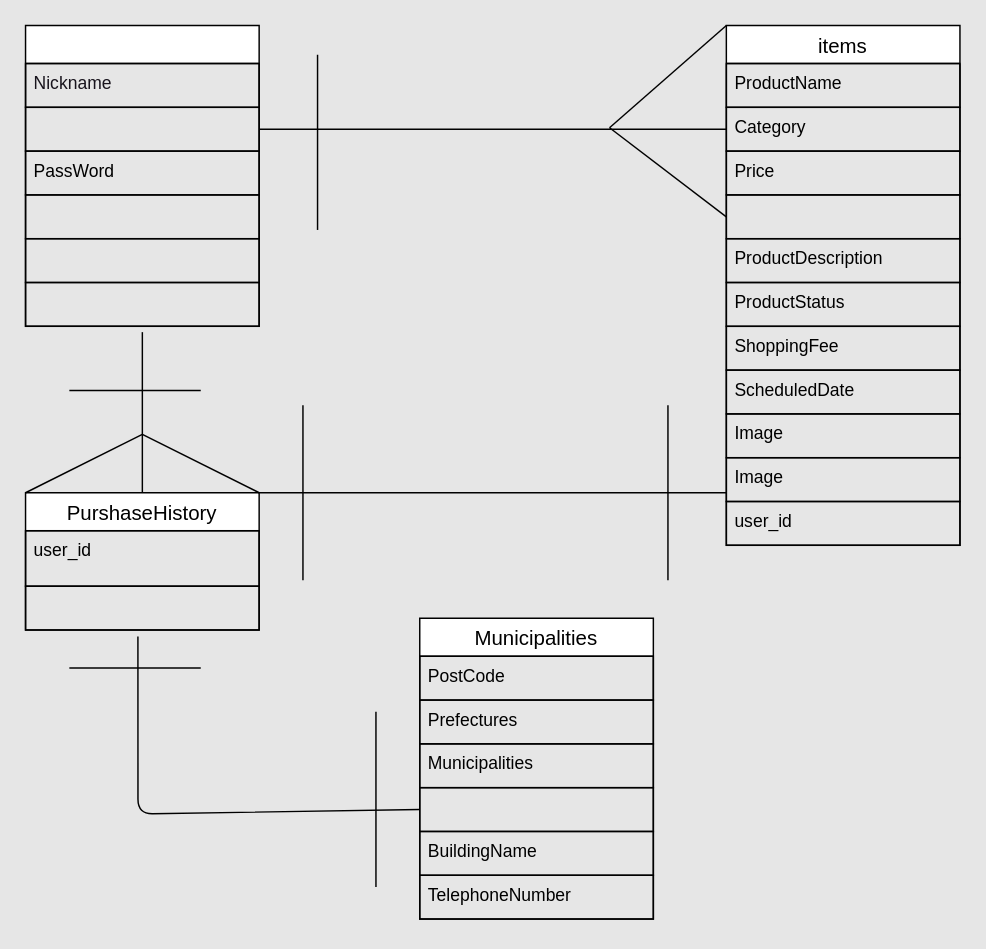
The diagram is 986 pixels wide and 949 high, and some of its shapes have lost their labels. The centre of each missing label's shape, as x and y in pixels:
"Address" goes at (x=535, y=808).
"Birthday" goes at (x=141, y=303).
"Email" goes at (x=141, y=128).
"FirstName" goes at (x=141, y=216).
"item_id" goes at (x=141, y=607).
"LastName" goes at (x=141, y=260).
"Seller" goes at (x=842, y=216).
